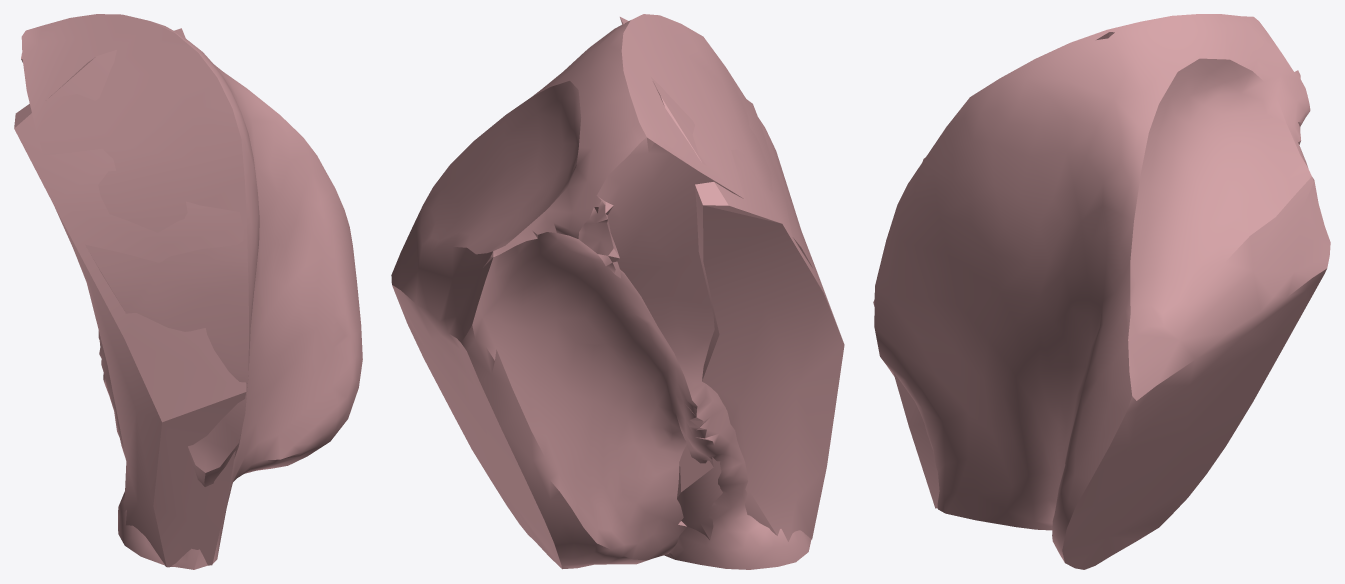
Rendered from fma75351-r_mm3066m.glb.
3 views of the same model, side by side, from view 1: azimuth 30°, elevation 25°; view 2: azimuth 150°, elevation 25°; view 3: azimuth 270°, elevation 25° (orthographic). The views are drawn at different scales.
Visible parts, largest first — view 1: FMA75351-R_MM3066M; view 2: FMA75351-R_MM3066M; view 3: FMA75351-R_MM3066M.
Boxes of the visible parts, bbox=[...] form: FMA75351-R_MM3066M: bbox=[14, 14, 362, 569]; FMA75351-R_MM3066M: bbox=[391, 14, 844, 569]; FMA75351-R_MM3066M: bbox=[873, 14, 1330, 569].
Bounding box in the file's own units: 0.00331 × 0.00476 × 0.00391.
